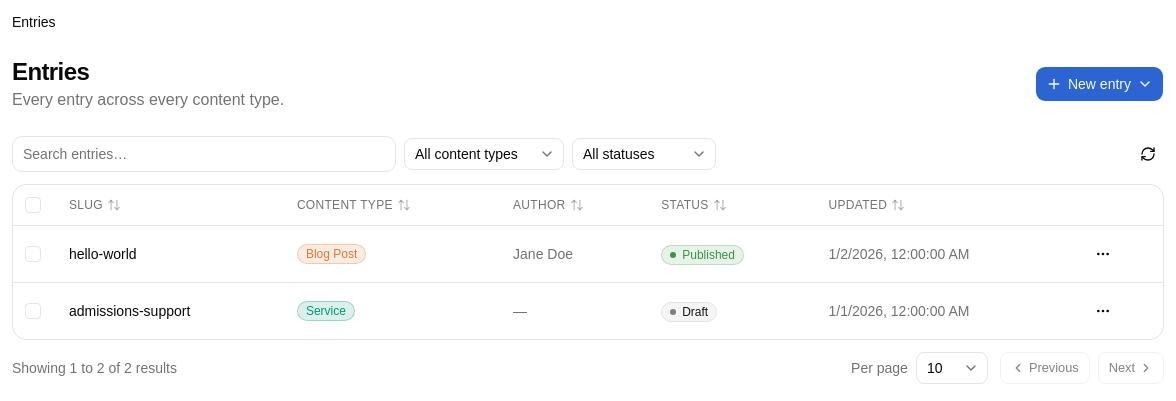
Test: AllEntriesPage › filters by status
Expected: the link "hello-world" is shown, [69,246,137,262]
Click the dropdown named "Filter by status" at (644, 154), box [572,138,716,170]
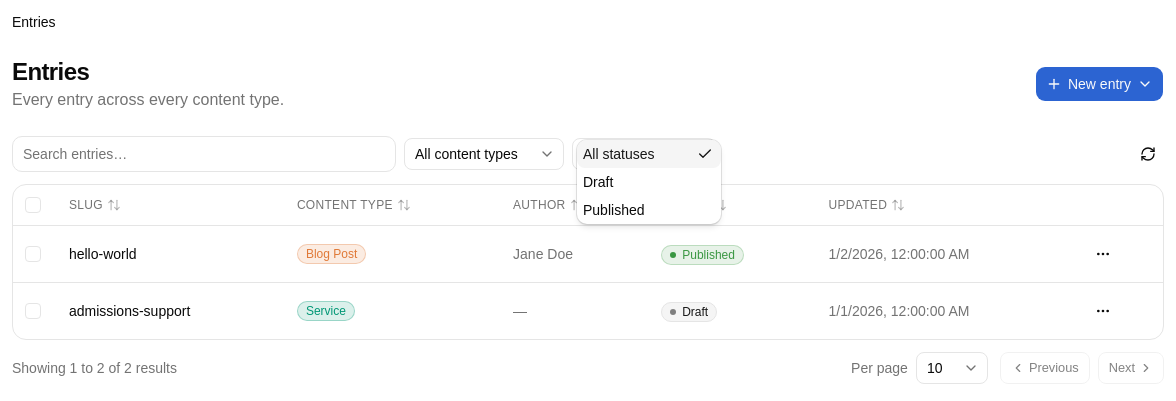
Click the option "Draft" at (598, 182), box [583,174,613,190]
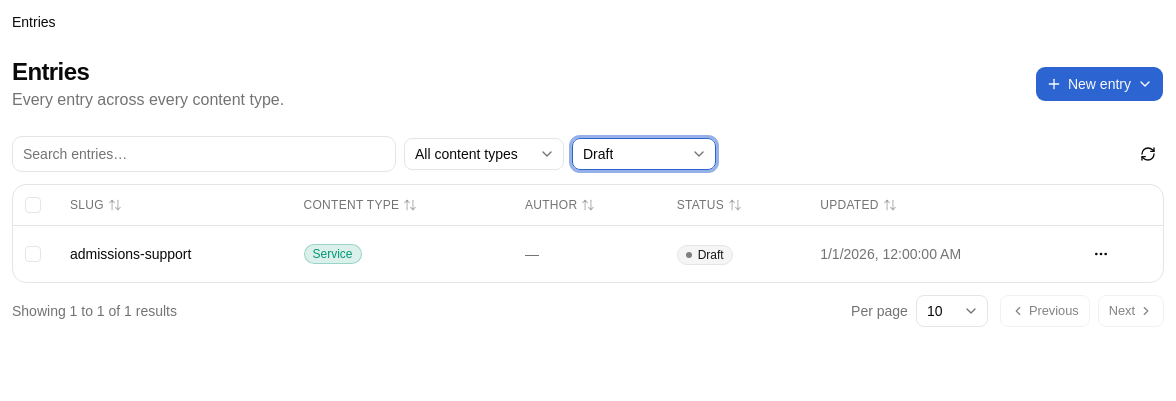
Expected: the link "hello-world" is gone
Expected: the link "admissions-support" is shown, [70,246,191,262]
